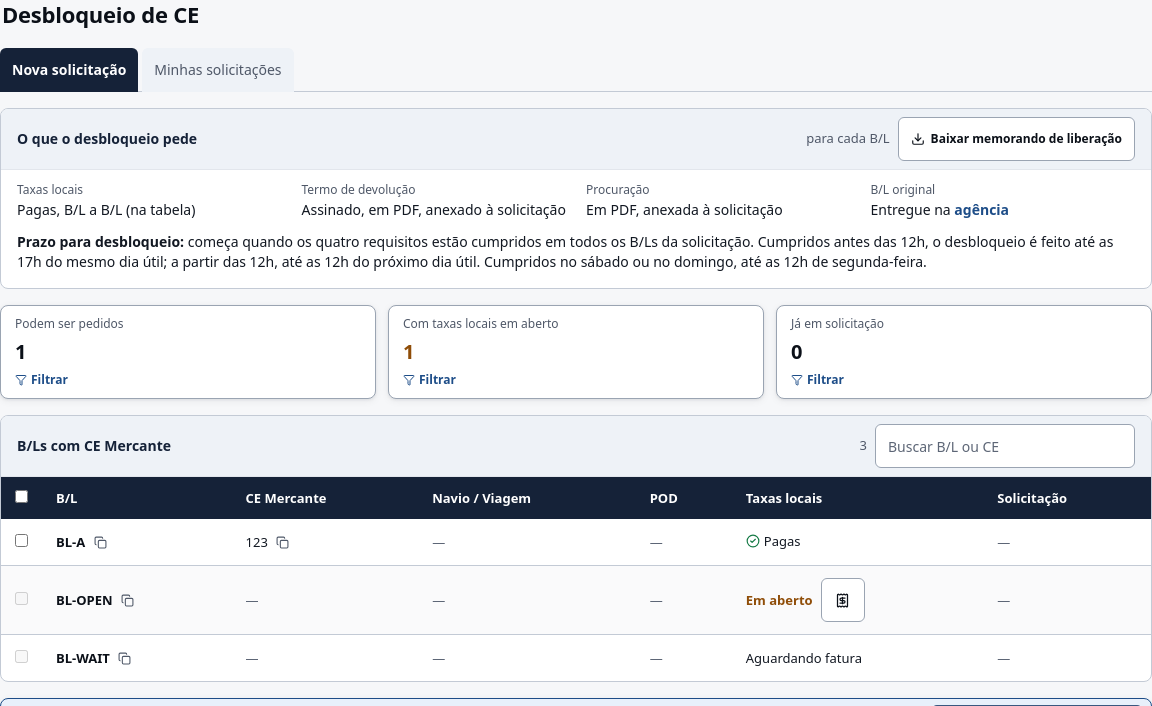
cartões contam e filtram; taxa aguardando fatura não conta como em aberto nem tem Ver faturas
The width and height of the screenshot is (1152, 706).
Expected: the text "Aguardando fatura" is shown, top-left (732, 634), bottom-right (983, 681)
Expected: the number of links named "Ver faturas em aberto do B/L " is 1, top-left (821, 578), bottom-right (865, 622)
Click the button "Com taxas locais em aberto 1 Filtrar" at (481, 324), box top-left (388, 305), bottom-right (764, 399)
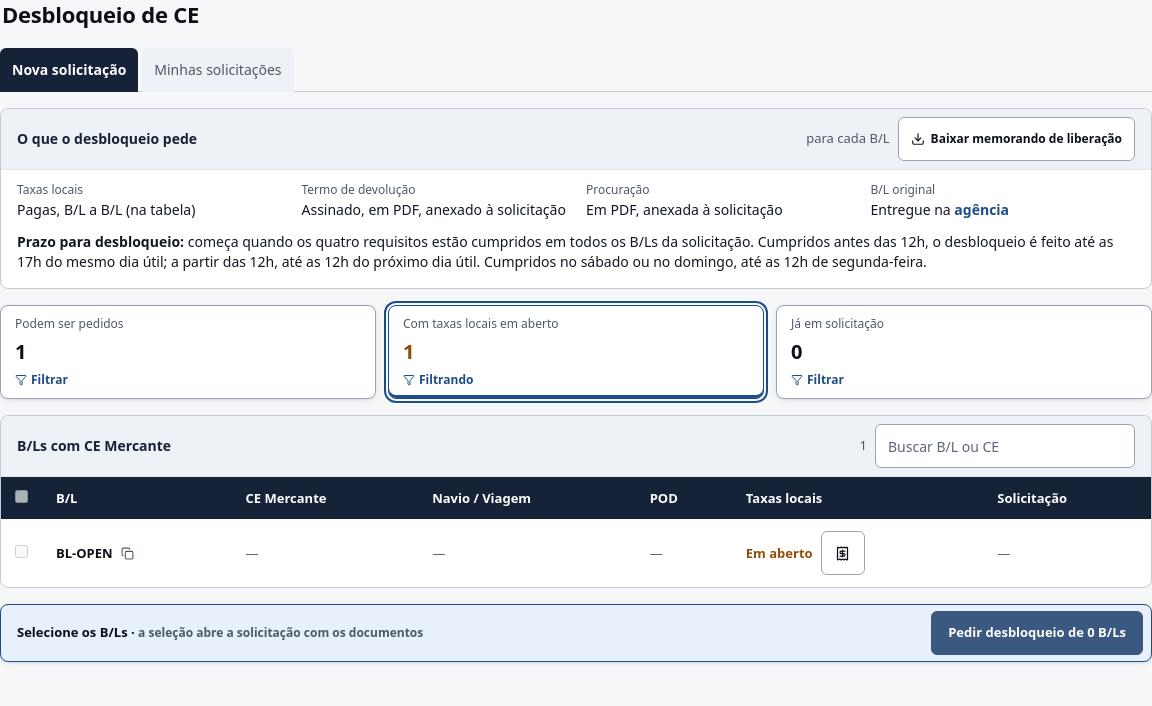
Expected: the checkbox named "Selecionar B/L BL-OPEN" is shown, top-left (15, 545), bottom-right (28, 558)
Click the button "Com taxas locais em aberto 1 Filtrando" at (481, 324), box top-left (388, 305), bottom-right (764, 399)
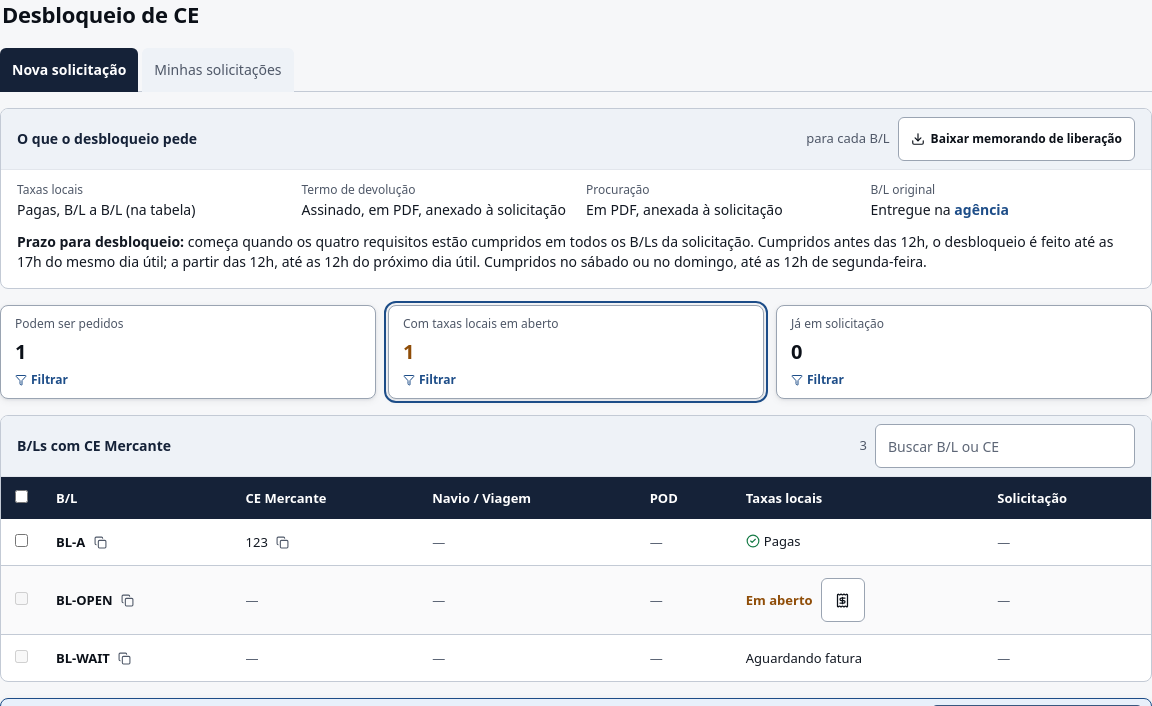
Expected: the checkbox named "Selecionar B/L BL-A" is shown, top-left (15, 534), bottom-right (28, 547)
